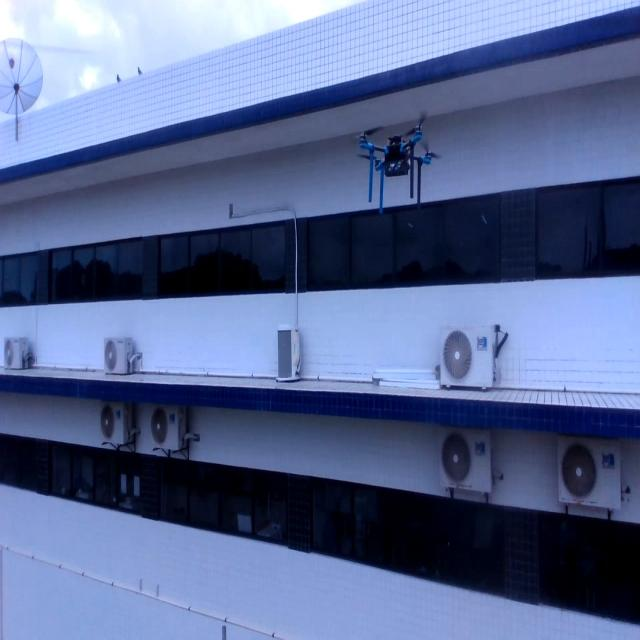-uav-: (344, 102, 451, 224)
